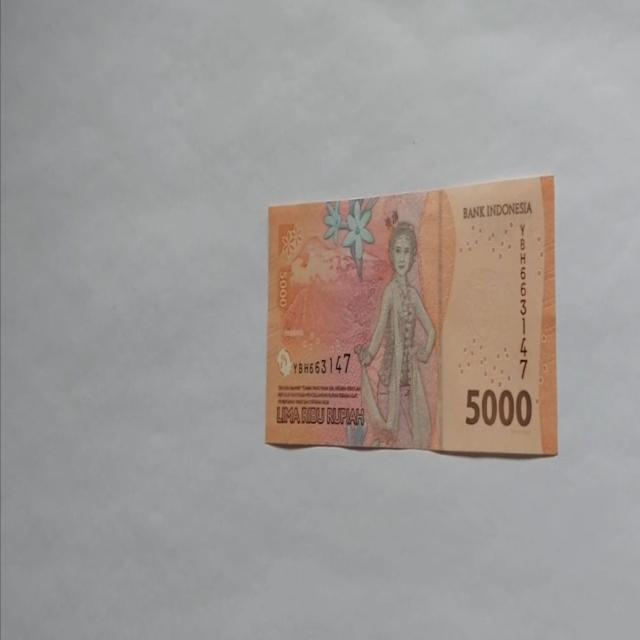lima ribu rupiah: (264, 172, 558, 456), (353, 219, 437, 449)
